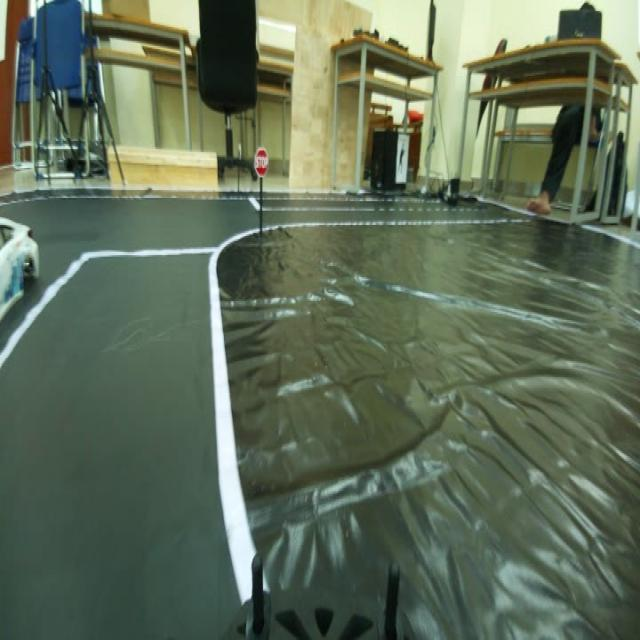stop: (248, 142, 272, 180)
